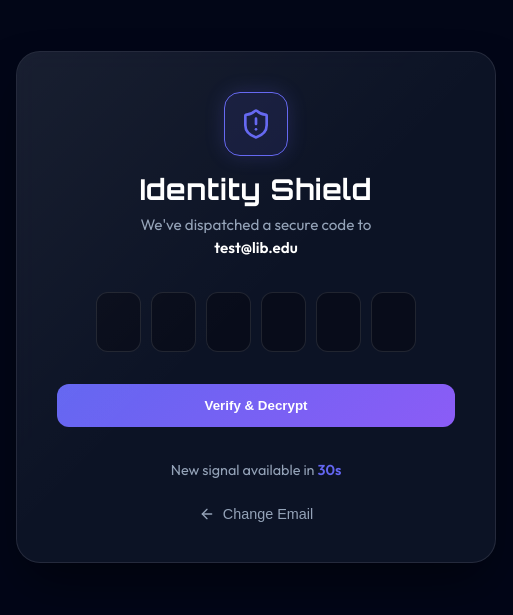
OTPPage › shows error when less than 6 digits are entered
In the 1st field: (118, 322) [96, 292, 141, 352], type "1"
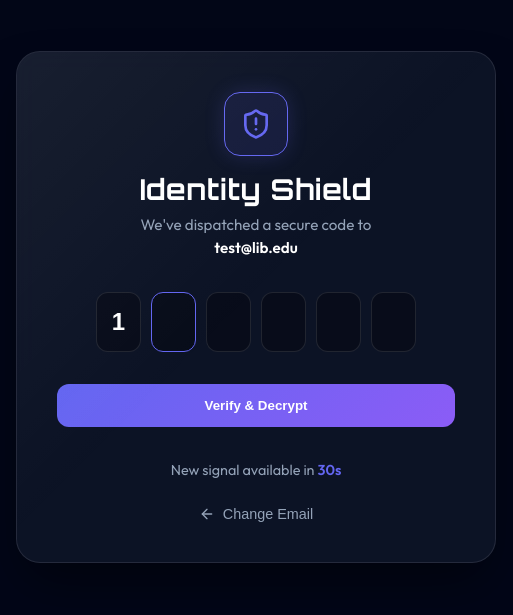
Click the button "Verify & Decrypt": (256, 406) [57, 384, 455, 427]
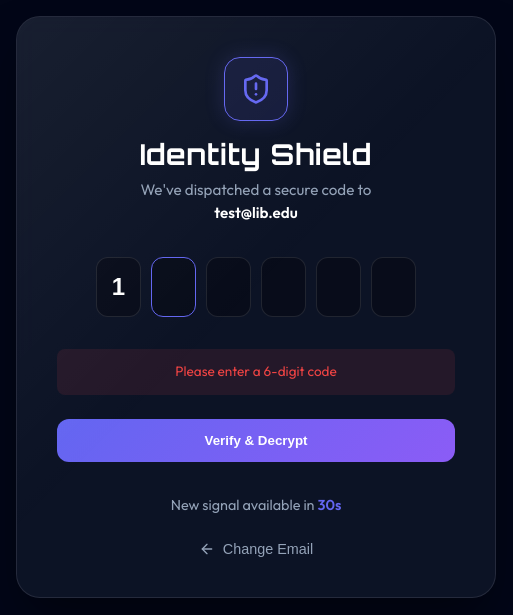
Now the text "Please enter a 6-digit code" is shown, box [57, 349, 455, 395]
